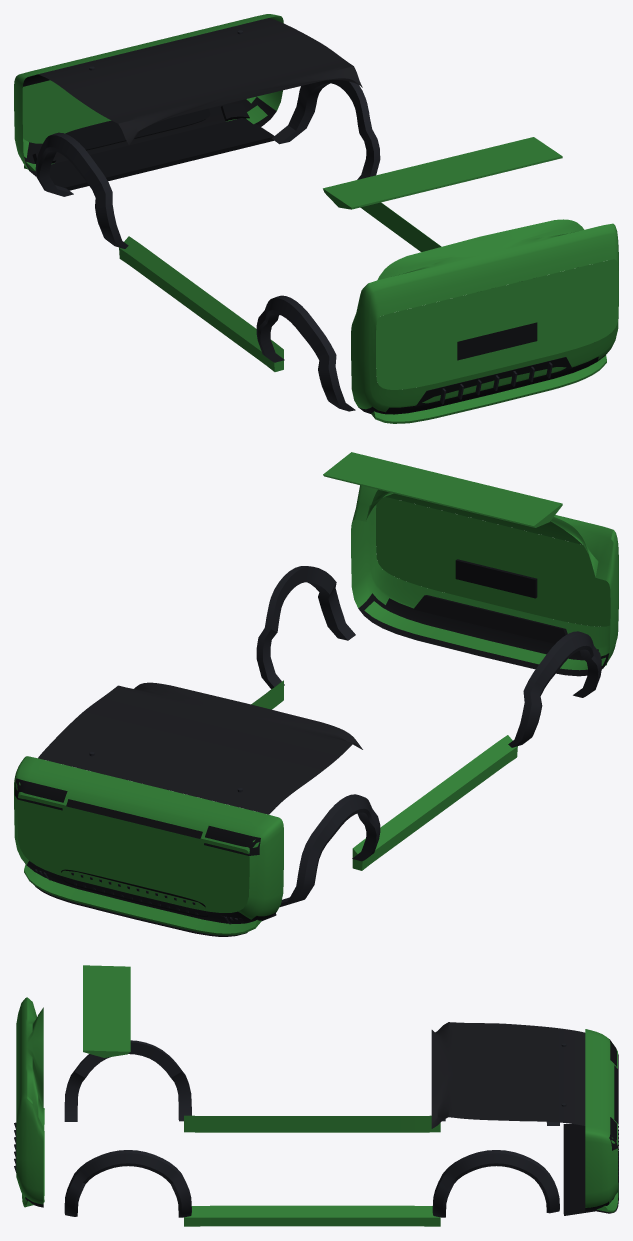
File: kit_drift.glb
The picture shows the model from 3 angles, top to bottom: view 1: azimuth 30°, elevation 25°; view 2: azimuth 150°, elevation 25°; view 3: azimuth 270°, elevation 25°; orthographic projection. The views are drawn at different scales.
Visible parts, largest first — view 1: bumper_front__drift, bumper_rear__drift, hood__drift, skirts__drift, spoiler__drift; view 2: bumper_front__drift, hood__drift, bumper_rear__drift, skirts__drift, spoiler__drift; view 3: skirts__drift, hood__drift, bumper_front__drift, bumper_rear__drift, spoiler__drift.
Boxes of the visible parts, bbox=[...] form: bumper_front__drift: bbox=[14, 14, 618, 389]; bumper_rear__drift: bbox=[351, 219, 618, 423]; hood__drift: bbox=[38, 18, 362, 145]; skirts__drift: bbox=[35, 80, 441, 411]; spoiler__drift: bbox=[323, 137, 562, 209]; bumper_front__drift: bbox=[14, 497, 610, 936]; hood__drift: bbox=[38, 682, 362, 814]; bumper_rear__drift: bbox=[351, 485, 618, 676]; skirts__drift: bbox=[251, 566, 601, 907]; spoiler__drift: bbox=[323, 452, 562, 527]; skirts__drift: bbox=[64, 1040, 559, 1226]; hood__drift: bbox=[431, 1022, 585, 1128]; bumper_front__drift: bbox=[563, 1029, 618, 1215]; bumper_rear__drift: bbox=[14, 997, 44, 1207]; spoiler__drift: bbox=[83, 965, 130, 1057].
Size of what is drawn, in the model's own units: 1.95 by 1.32 by 4.27.
